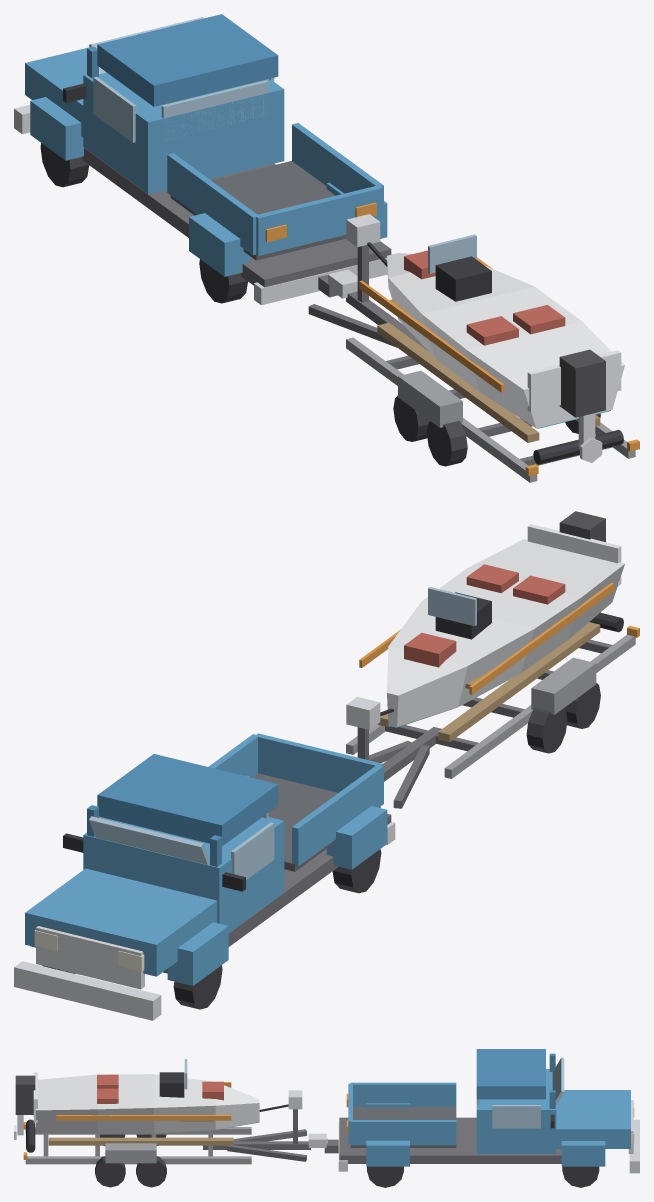
The model's file is truck-and-boat-trailer.glb.
3 views of the same model, one above another, from view 1: azimuth 30°, elevation 25°; view 2: azimuth 150°, elevation 25°; view 3: azimuth 270°, elevation 25° (orthographic). The views are drawn at different scales.
Visible parts, largest first — view 1: TBT_Hull, TBT_Cab, TBT_Roof, TBT_Chassis, TBT_Tailgate, TBT_BedFloor, TBT_BedL, TBT_BedR, TBT_BunkL, TBT_Hood, TBT_Motor, TBT_FenderRL (+21 smaller); view 2: TBT_Hull, TBT_Hood, TBT_Roof, TBT_Cab, TBT_BumperF, TBT_Tailgate, TBT_BedL, TBT_Grill, TBT_BunkL, TBT_FenderFL, TBT_FenderRL, TBT_BedFloor (+22 smaller); view 3: TBT_Hull, TBT_Hood, TBT_Roof, TBT_Cab, TBT_Chassis, TBT_BedR, TBT_BedL, TBT_BunkR, TBT_BedFloor, TBT_RailR, TBT_FenderRR, TBT_GlassR (+23 smaller).
Boxes of the visible parts, <box> form: TBT_Hull: <box>387,253,624,428</box>; TBT_Cab: <box>83,72,284,194</box>; TBT_Roof: <box>97,14,278,106</box>; TBT_Chassis: <box>82,147,391,287</box>; TBT_Tailgate: <box>256,186,382,255</box>; TBT_BedFloor: <box>170,161,380,260</box>; TBT_BedL: <box>167,153,258,255</box>; TBT_BedR: <box>292,123,383,223</box>; TBT_BunkL: <box>377,322,539,442</box>; TBT_Hood: <box>25,47,89,136</box>; TBT_Motor: <box>559,349,605,417</box>; TBT_FenderRL: <box>189,213,249,276</box>; TBT_Hull: <box>387,539,624,726</box>; TBT_Hood: <box>25,868,217,976</box>; TBT_Roof: <box>97,754,278,846</box>; TBT_Cab: <box>83,817,284,932</box>; TBT_BumperF: <box>14,961,161,1020</box>; TBT_Tailgate: <box>255,733,382,792</box>; TBT_BedL: <box>292,764,383,866</box>; TBT_Grill: <box>36,926,144,989</box>; TBT_BunkL: <box>438,622,600,742</box>; TBT_FenderFL: <box>167,922,228,985</box>; TBT_FenderRL: <box>326,806,387,869</box>; TBT_BedFloor: <box>252,773,380,871</box>; TBT_Hull: <box>36,1074,259,1133</box>; TBT_Hood: <box>556,1090,630,1148</box>; TBT_Roof: <box>476,1049,545,1099</box>; TBT_Cab: <box>476,1069,556,1153</box>; TBT_Chassis: <box>339,1117,561,1163</box>; TBT_BedR: <box>350,1120,456,1145</box>; TBT_BedL: <box>350,1082,456,1106</box>; TBT_BunkR: <box>48,1137,233,1145</box>; TBT_BedFloor: <box>350,1107,456,1147</box>; TBT_RailR: <box>25,1156,251,1164</box>; TBT_FenderRR: <box>366,1140,409,1166</box>; TBT_GlassR: <box>492,1105,540,1128</box>.
Size of the model in its own units: 2.48 by 2.13 by 12.18.
